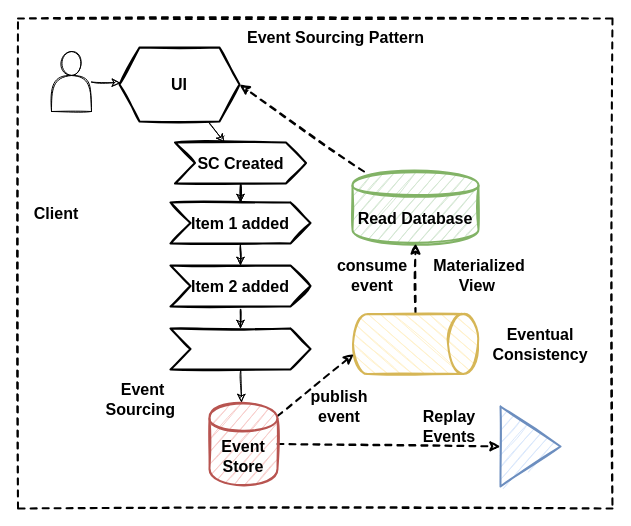
Some shapes in this 631 by 526 pixel diagram are drawn without their labels. The shapes that lost their labels are listed below. From the top down, each one's box as (x1, y1, x2, y2) in pixels, then its label:
(169, 327, 311, 370): Item 1 deleted
(352, 312, 478, 374): Eventbus
(499, 405, 561, 487): Replay
